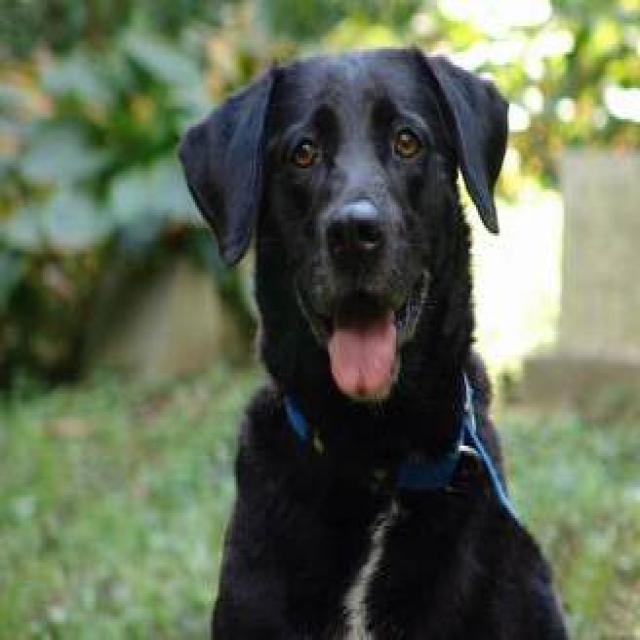dog: (176, 42, 580, 638)
